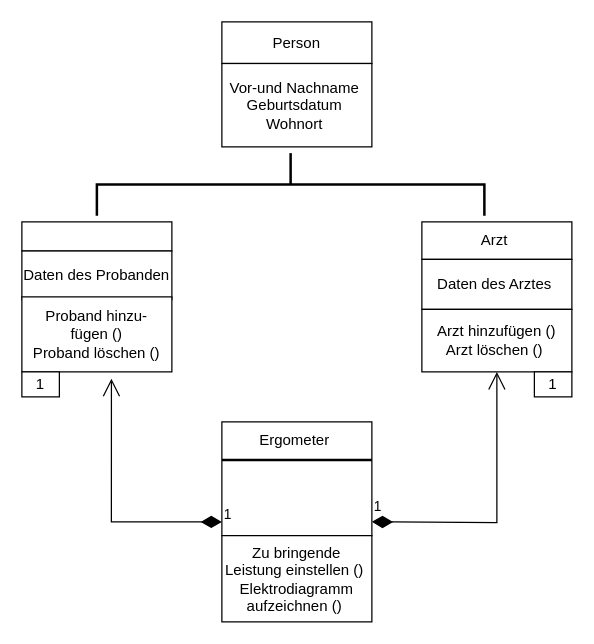
This 594x644 diagram has some shape labels left out. The shapes that lost their labels are listed below. From the top down, each one's centre as x and y in pixels, then its label:
At pixel 96 236: "Proband/in".
At pixel 296 497: "Test-Name Datum des Tests Dauer".
